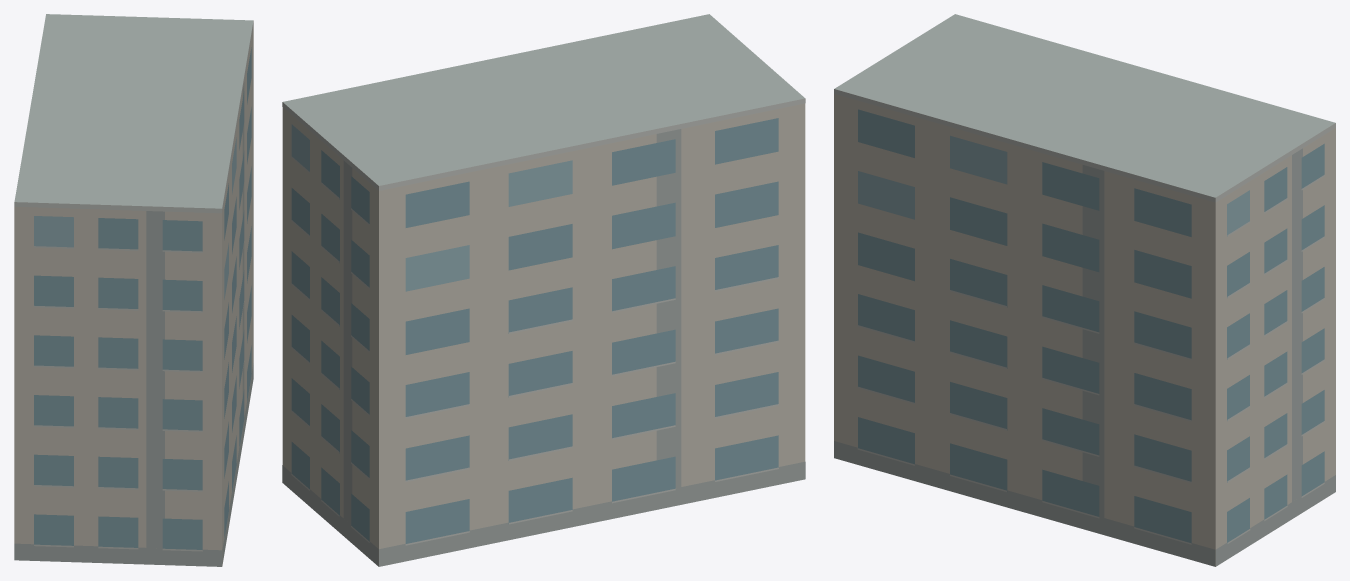
File: survey-upis-32537129.glb
3 views of the same model, side by side, from view 1: azimuth 30°, elevation 25°; view 2: azimuth 150°, elevation 25°; view 3: azimuth 270°, elevation 25° (orthographic). The views are drawn at different scales.
Parts seen in each view (by area): view 1: survey-upis-32537129.tmp; view 2: survey-upis-32537129.tmp; view 3: survey-upis-32537129.tmp.
Part boxes in pixels (left/top/right/bottom): survey-upis-32537129.tmp: left=14, top=14, right=253, bottom=566; survey-upis-32537129.tmp: left=282, top=14, right=805, bottom=566; survey-upis-32537129.tmp: left=834, top=14, right=1335, bottom=566.
Bounding box in the file's own units: 19.87 × 18.6 × 22.92.
